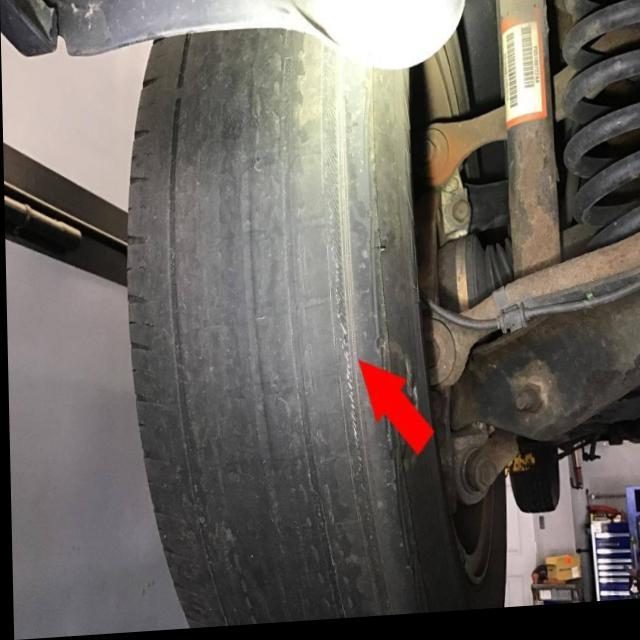Flat spots: (152, 49, 377, 598)
